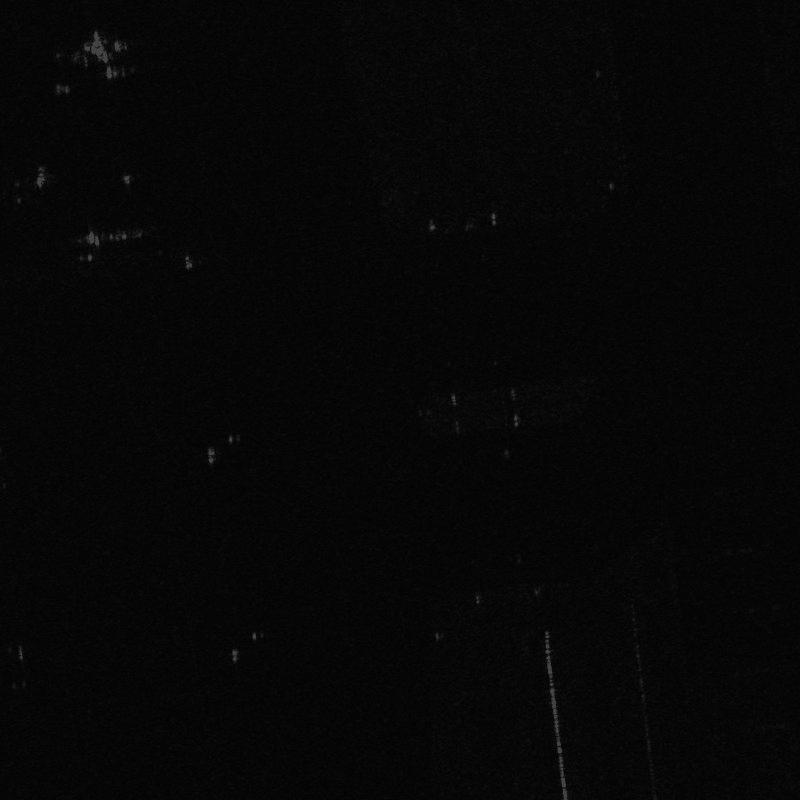A220: (71, 23, 133, 82)
